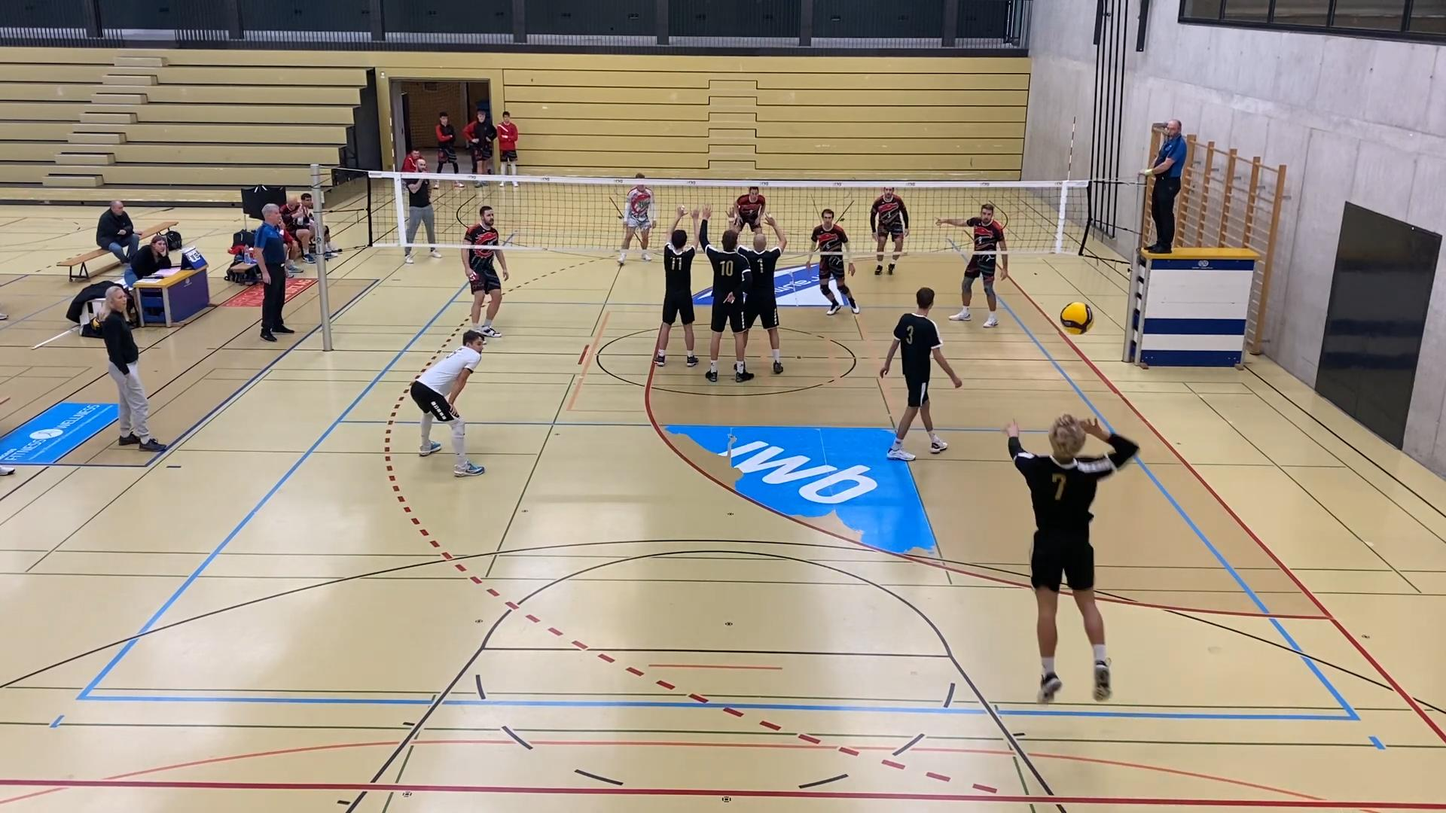battuta: (1001, 412, 1142, 705)
